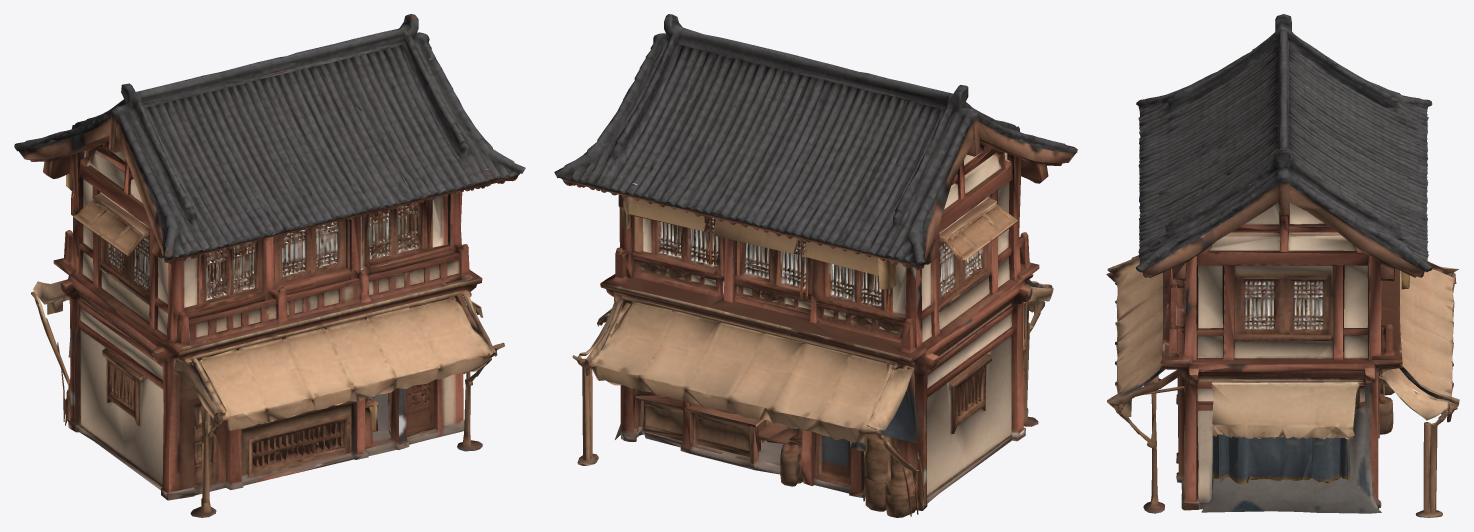
The model's file is 16_Two_Story_Merchant_Shop_LOD1.fbx.
The picture shows the model from 3 angles, left to right: view 1: azimuth 30°, elevation 25°; view 2: azimuth 150°, elevation 25°; view 3: azimuth 270°, elevation 25°; orthographic projection. The views are drawn at different scales.
Visible parts, largest first — view 1: 16_Two_Story_Merchant_Shop_L1; view 2: 16_Two_Story_Merchant_Shop_L1; view 3: 16_Two_Story_Merchant_Shop_L1.
Boxes of the visible parts, x1=… form: 16_Two_Story_Merchant_Shop_L1: x1=14, y1=14, x2=525, y2=517; 16_Two_Story_Merchant_Shop_L1: x1=554, y1=14, x2=1077, y2=517; 16_Two_Story_Merchant_Shop_L1: x1=1106, y1=14, x2=1459, y2=517.
Size of the model in its own units: 8.97 by 9 by 7.9.
